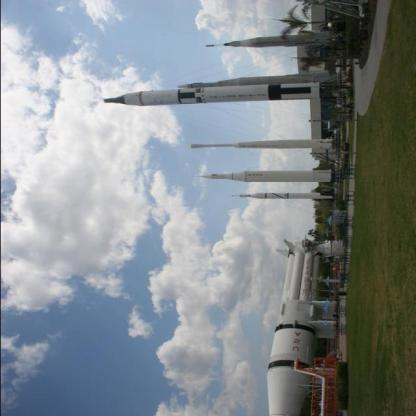MIL_TBM: (101, 84, 320, 110), (186, 136, 336, 154), (190, 168, 336, 182), (204, 36, 318, 50), (226, 190, 330, 203), (288, 247, 302, 304)
